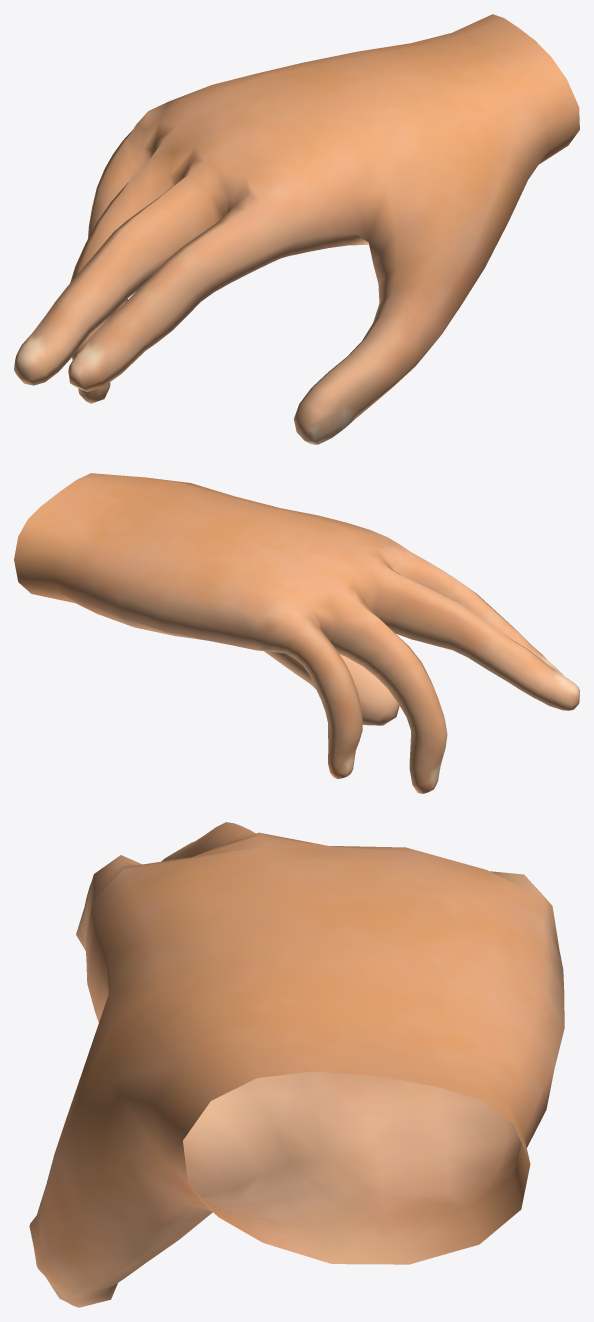
File: H_smoke.fbx
3 views of the same model, one above another, from view 1: azimuth 30°, elevation 25°; view 2: azimuth 150°, elevation 25°; view 3: azimuth 270°, elevation 25° (orthographic). The views are drawn at different scales.
Visible parts, largest first — view 1: H_smoke; view 2: H_smoke; view 3: H_smoke.
Part boxes in pixels (<box>): H_smoke: <box>14,14,579,444</box>; H_smoke: <box>14,473,579,793</box>; H_smoke: <box>29,822,564,1307</box>.
Size of the model in its own units: 19.71 by 9.25 by 9.66.
Materials: 1 (1 with a texture image).
